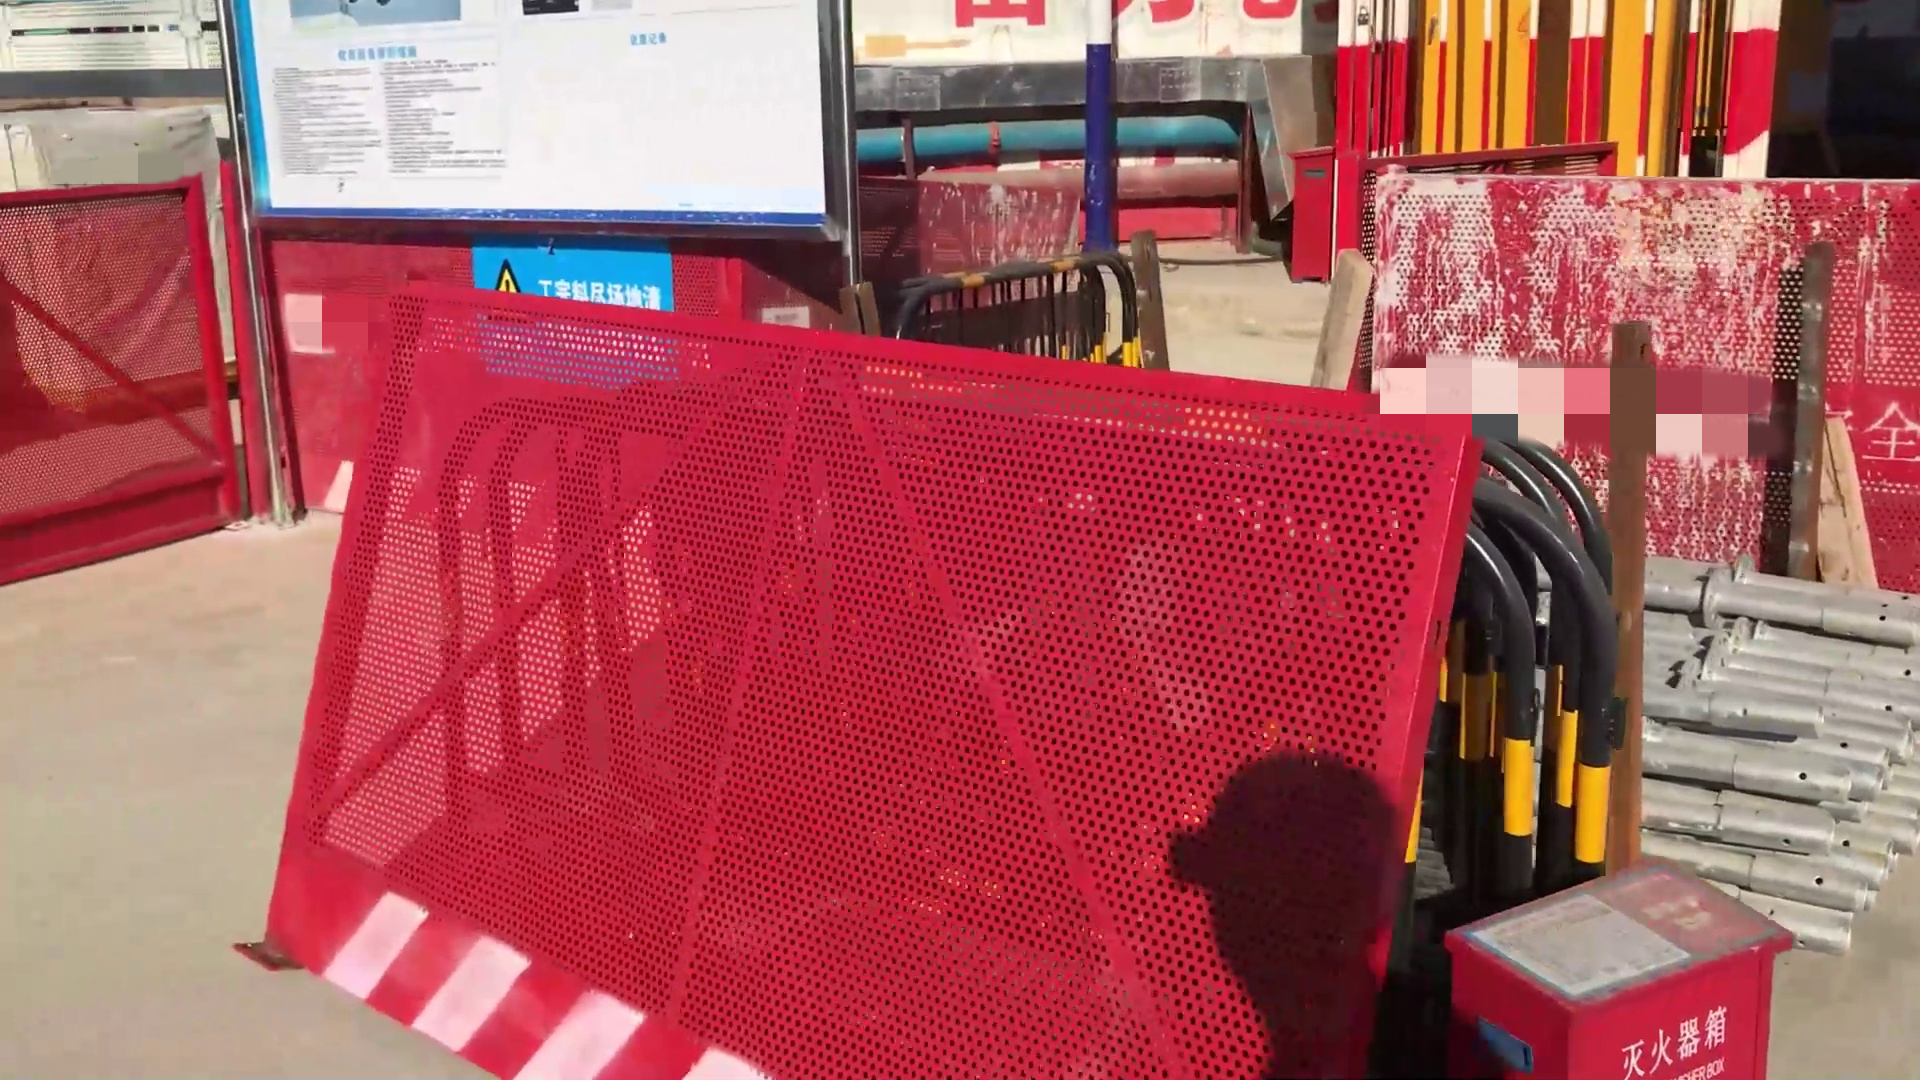fence: (323, 284, 1478, 1080), (1367, 169, 1920, 553), (1, 157, 239, 601), (1461, 435, 1621, 897), (1396, 1, 1750, 193)
scaffold: (1648, 549, 1920, 978)
slogan: (480, 251, 525, 293)
